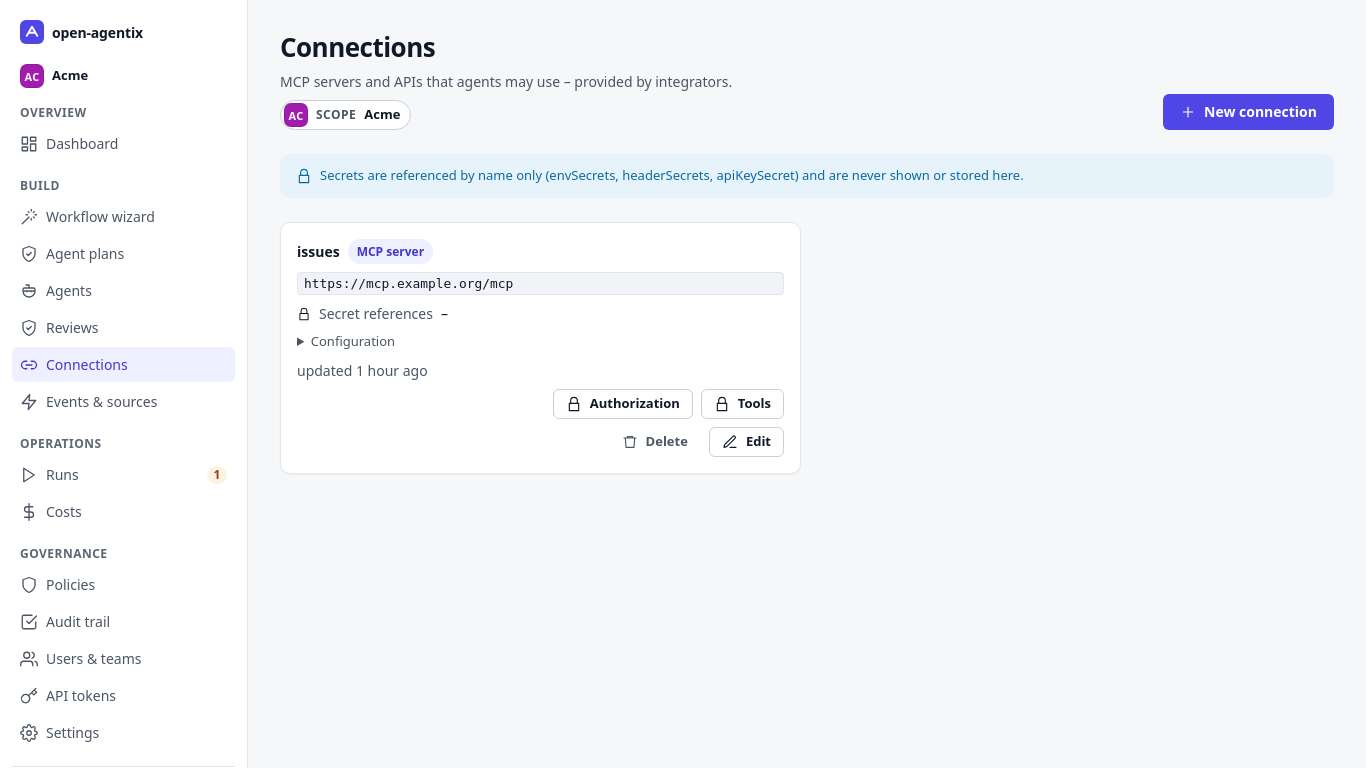
Test: Authorization of an OAuth connection › says what a step-up needs and asks to authorize again
This screenshot has width=1366, height=768.
Click the button "Authorization". click: (623,404)
box: [553, 389, 693, 419]
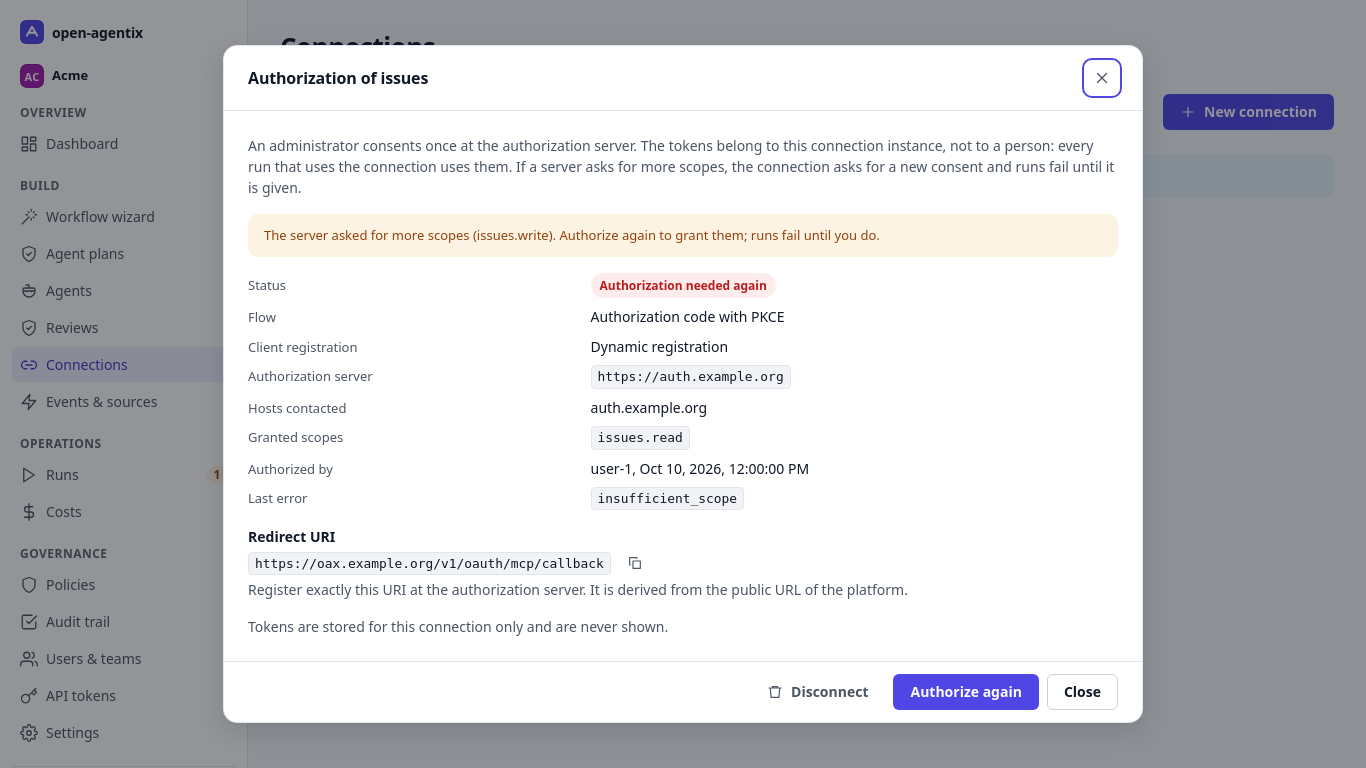
expect the message shows "The server asked for more scopes (issues.write)": met, box [264, 226, 880, 244]
expect the text "Authorization needed again" is shown: met, box [591, 273, 776, 298]
expect the button "Authorize again" is shown: met, box [894, 674, 1039, 710]
